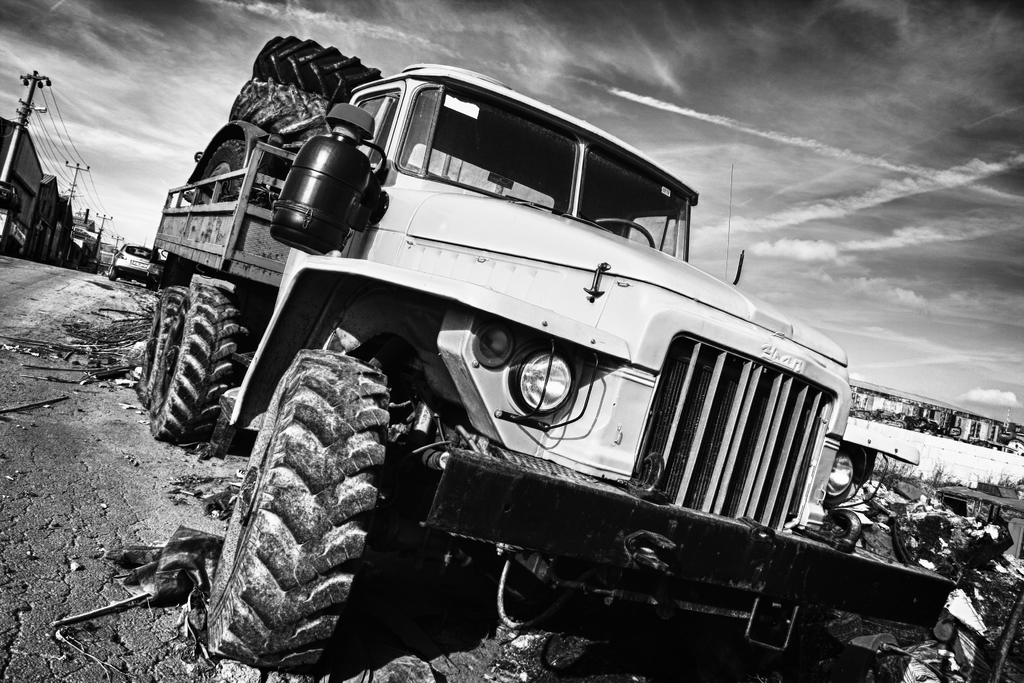Car: (109, 237, 160, 291), (120, 244, 140, 248)
